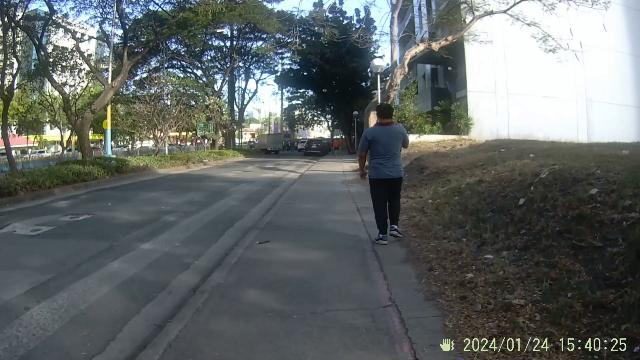tree: (60, 65, 104, 167)
utility_post: (102, 99, 116, 157)
